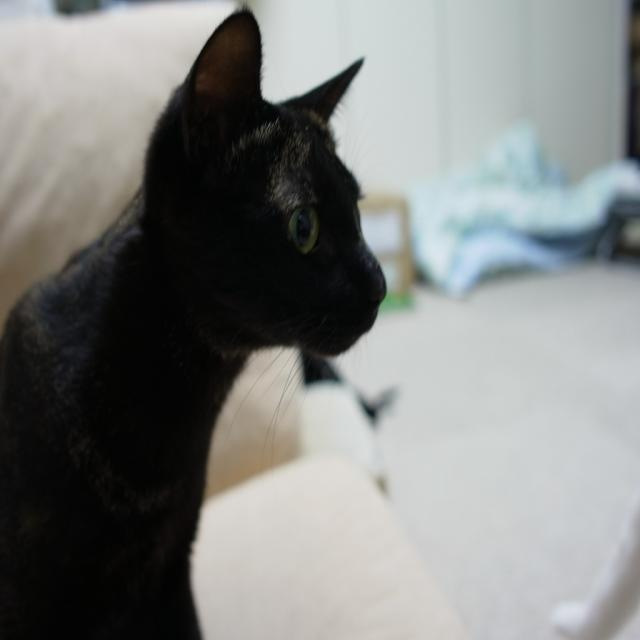Cat: (0, 2, 387, 638)
